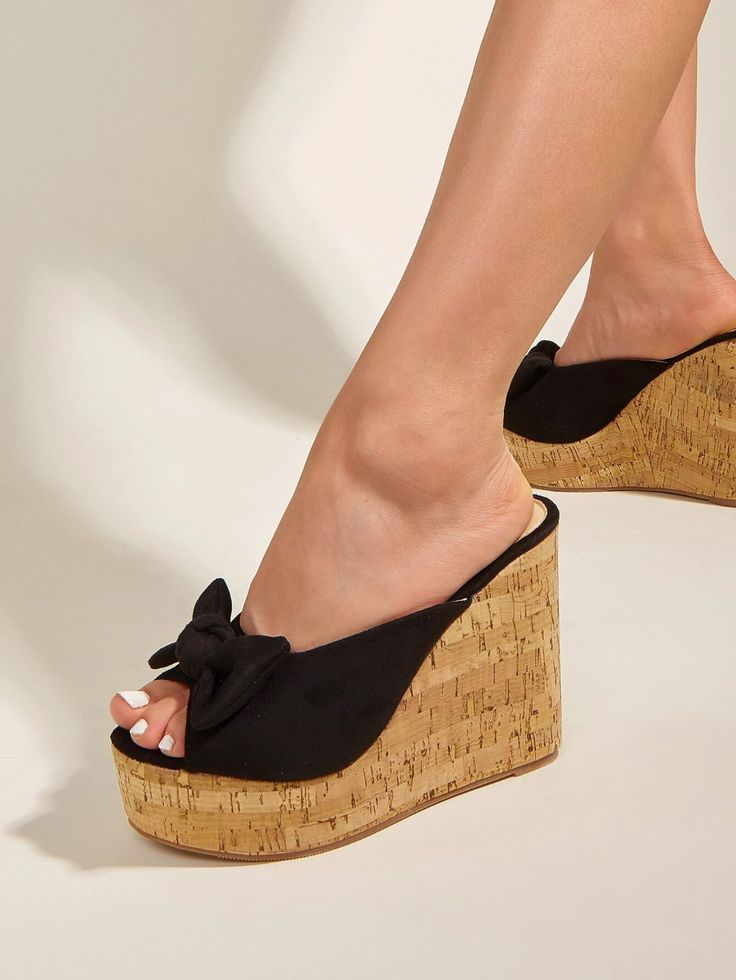gamuza: (111, 340, 677, 783)
